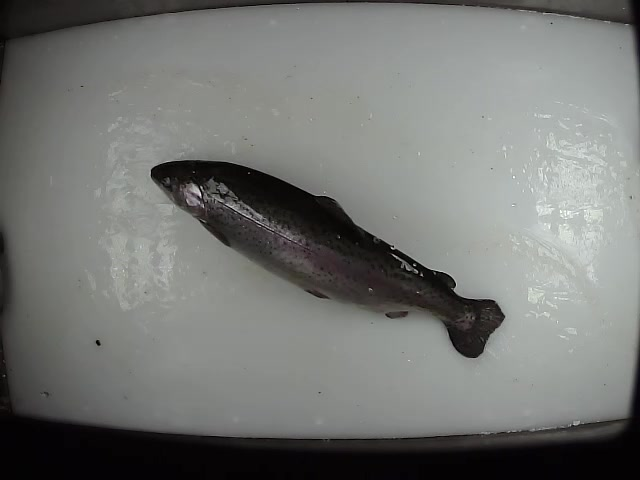fish: (149, 158, 507, 359)
